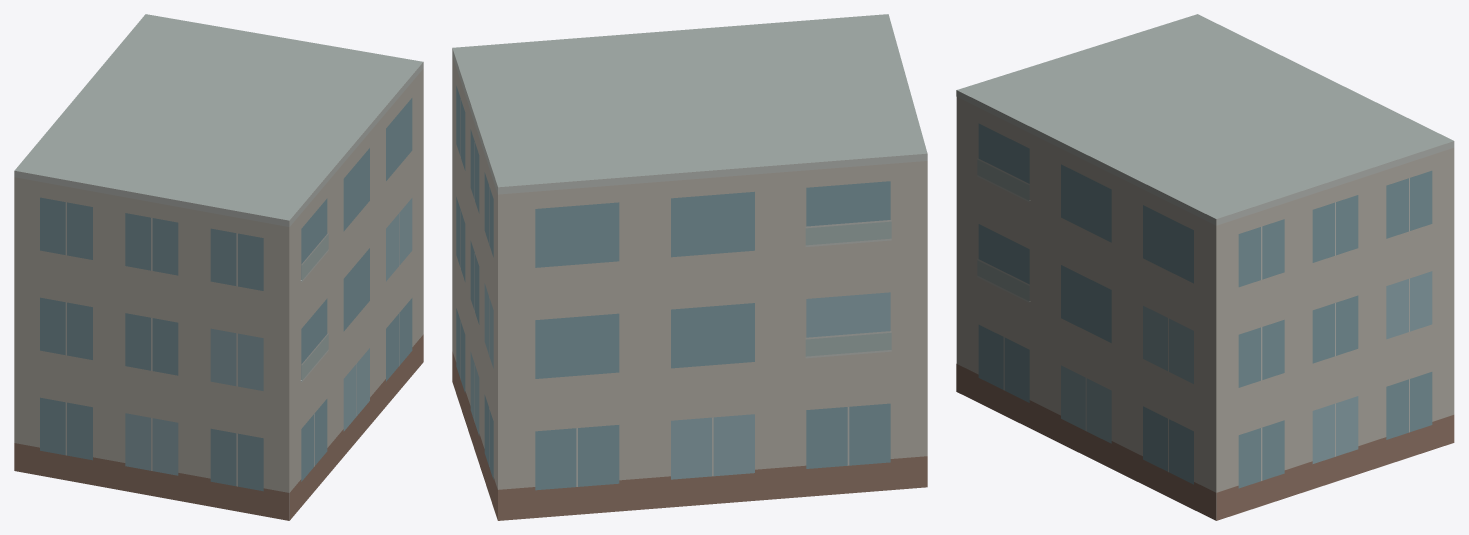
File: survey-upis-32646878.glb
3 renders of one model, left to right at view 1: azimuth 30°, elevation 25°; view 2: azimuth 150°, elevation 25°; view 3: azimuth 270°, elevation 25°, orthographic. The views are drawn at different scales.
Parts seen in each view (by area): view 1: survey-upis-32646878.tmp; view 2: survey-upis-32646878.tmp; view 3: survey-upis-32646878.tmp.
Part boxes in pixels (x1,y1,x2,y2): survey-upis-32646878.tmp: (14, 14, 423, 520); survey-upis-32646878.tmp: (452, 14, 927, 520); survey-upis-32646878.tmp: (956, 14, 1454, 520).
Bounding box in the file's own units: 16.35 × 11.2 × 16.76.
